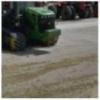tractors: (3, 2, 64, 52)
